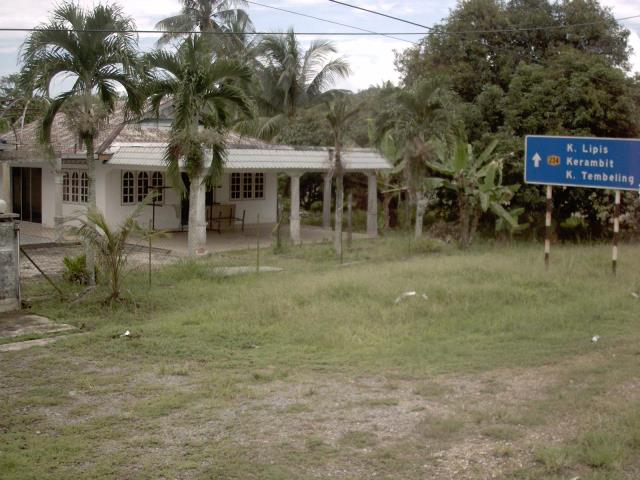traffic_sign: (513, 127, 640, 199)
